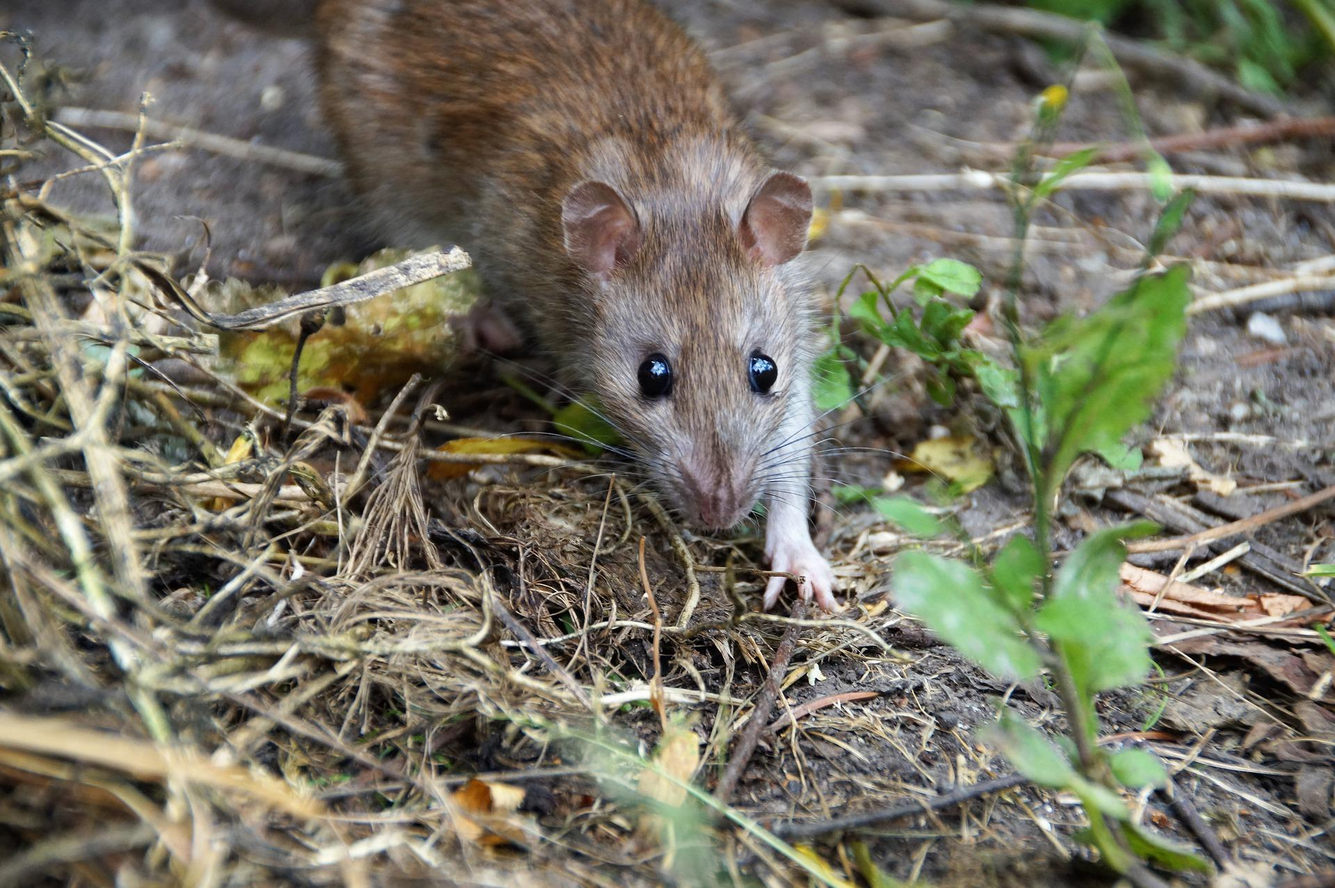rat: (315, 2, 838, 616)
